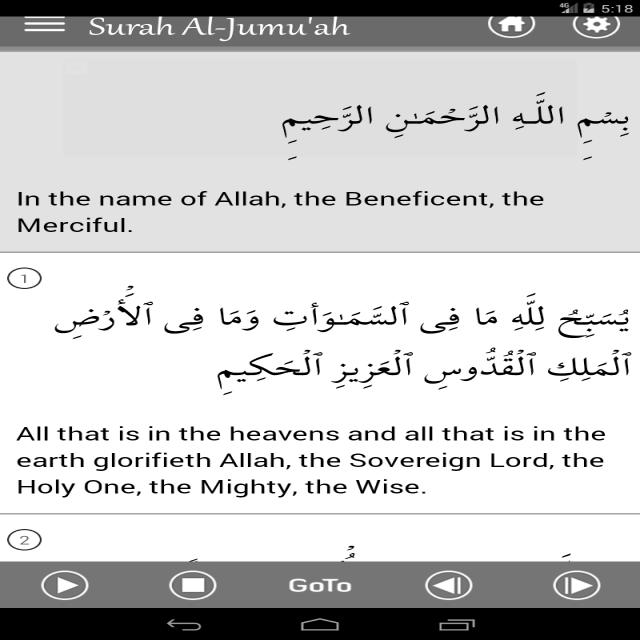ImageButton: (159, 562, 230, 601), (534, 570, 622, 600), (28, 560, 100, 596), (418, 570, 487, 604), (484, 12, 538, 40), (16, 17, 70, 39), (571, 19, 619, 41)
TextView: (56, 293, 622, 391), (12, 419, 619, 507), (14, 183, 552, 239), (226, 90, 628, 152), (87, 21, 365, 44)
